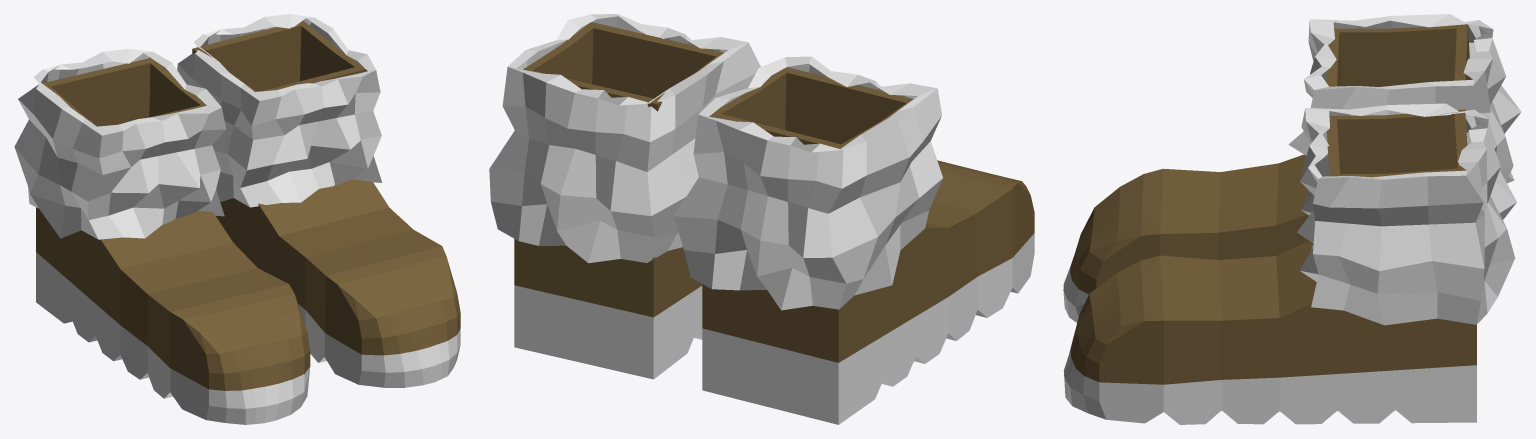
Rendered from winter_boots.fbx.
3 renders of one model, left to right at view 1: azimuth 30°, elevation 25°; view 2: azimuth 150°, elevation 25°; view 3: azimuth 270°, elevation 25°, orthographic. The views are drawn at different scales.
Visible parts, largest first — view 1: Cube.001, Cube; view 2: Cube.001, Cube; view 3: Cube, Cube.001.
Part boxes in pixels (x1,y1,x2,y2): Cube.001: [14, 49, 310, 424]; Cube: [177, 14, 460, 387]; Cube.001: [673, 56, 1034, 424]; Cube: [489, 14, 760, 379]; Cube: [1063, 103, 1516, 424]; Cube.001: [1063, 14, 1521, 322].
Size of the model in its own units: 85.75 by 61.96 by 99.34.
